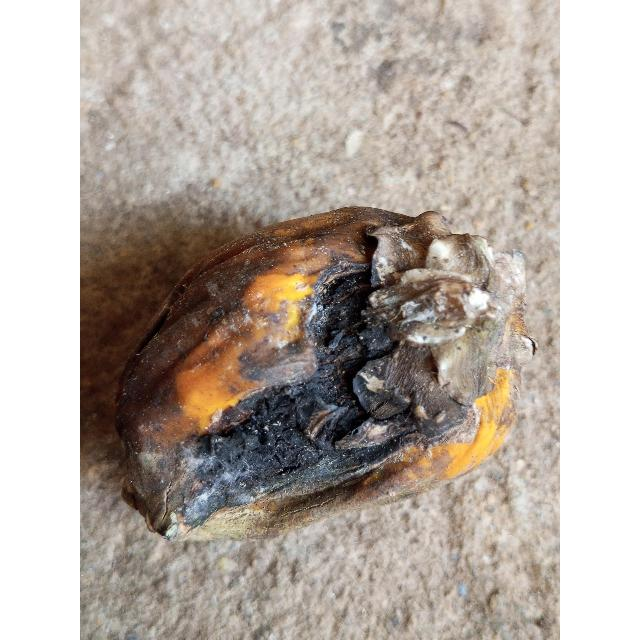damaged: (114, 206, 533, 546)
